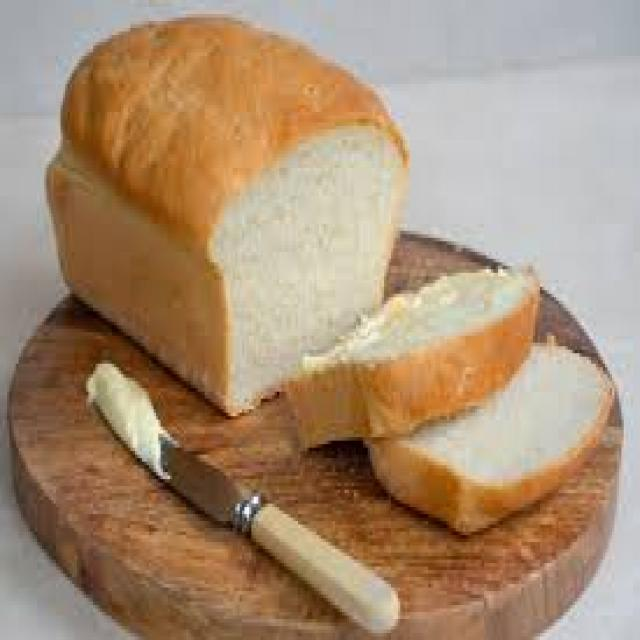bread: (46, 16, 407, 417)
